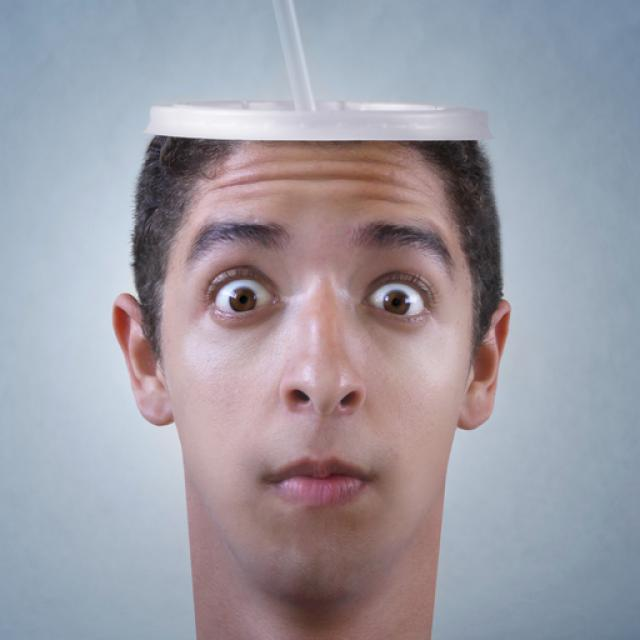fear: (166, 141, 469, 594)
